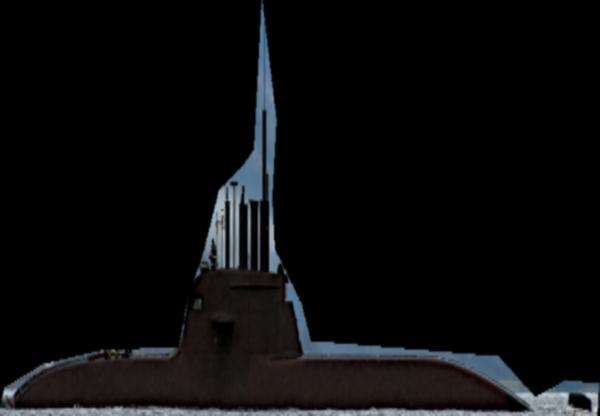Submarine: (0, 1, 600, 416)
